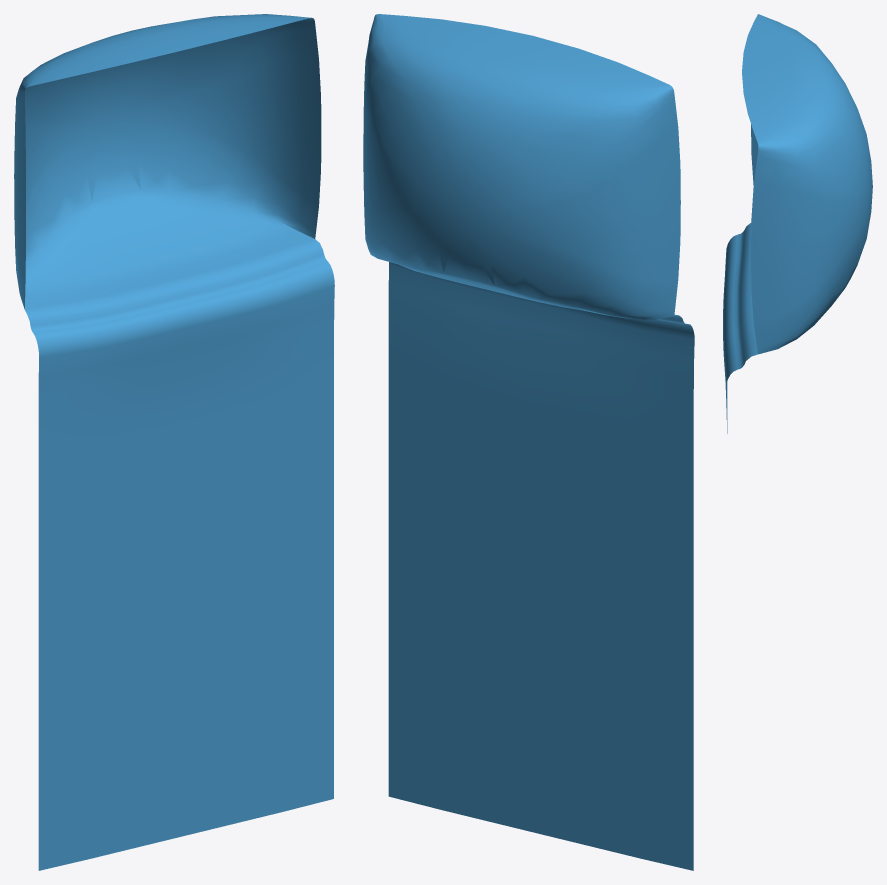
The model's file is TelevisionInside.glb.
The picture shows the model from 3 angles, left to right: view 1: azimuth 30°, elevation 25°; view 2: azimuth 150°, elevation 25°; view 3: azimuth 270°, elevation 25°; orthographic projection. The views are drawn at different scales.
Visible parts, largest first — view 1: MSH_TelevisionInside; view 2: MSH_TelevisionInside; view 3: MSH_TelevisionInside.
Part boxes in pixels (x1,y1,x2,y2): MSH_TelevisionInside: [14, 14, 334, 870]; MSH_TelevisionInside: [363, 14, 694, 870]; MSH_TelevisionInside: [723, 14, 872, 433].
Bounding box in the file's own units: 2.94 × 7.4 × 1.37.
